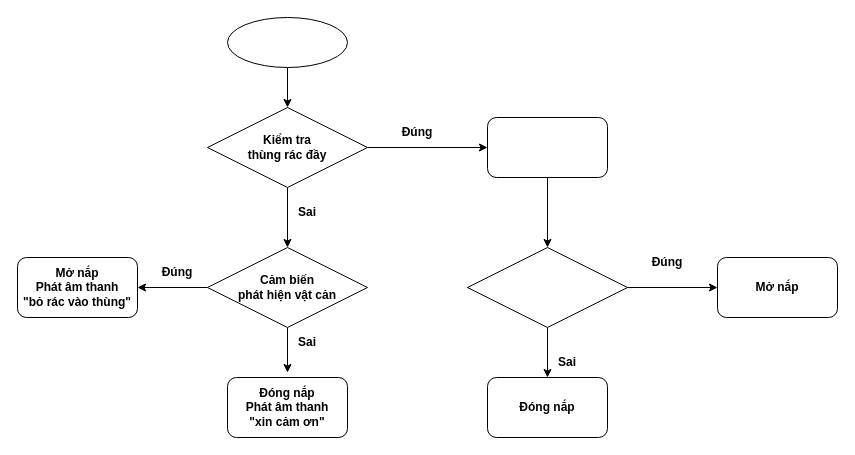
The diagram is 855 pixels wide and 455 high, and some of its shapes have lost their labels. Each missing label, with the box of its shape:
Bắt đầu: (226, 16, 348, 68)
Không mở nắp khi chạm cảm biến Phát âm thanh "Thùng rác đã đầy": (486, 116, 608, 178)
kiểm tra công tắc: (466, 246, 628, 328)
